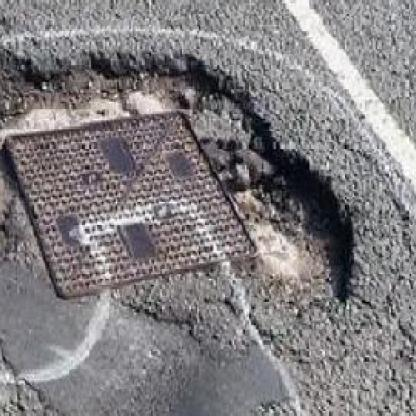pothole: (0, 42, 359, 309)
